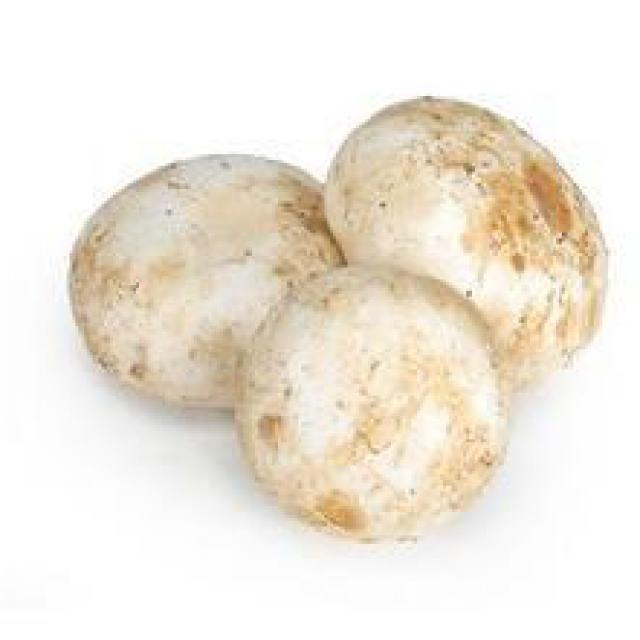Agaricus bisporus: (72, 95, 608, 545)
